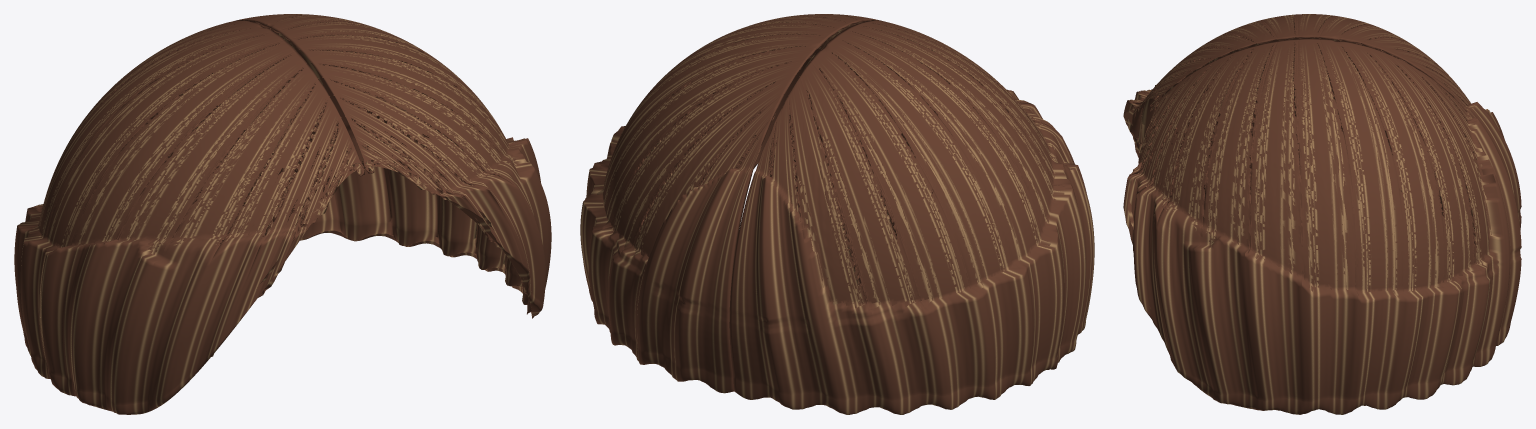
Rendered from Highlights-30907b967027252-hair.glb.
The picture shows the model from 3 angles, left to right: view 1: azimuth 30°, elevation 25°; view 2: azimuth 150°, elevation 25°; view 3: azimuth 270°, elevation 25°; orthographic projection. The views are drawn at different scales.
Parts seen in each view (by area): view 1: 226 hair / Hair252 / flowing sculpt middle.001; view 2: 226 hair / Hair252 / flowing sculpt middle.001; view 3: 226 hair / Hair252 / flowing sculpt middle.001.
Part boxes in pixels (box(x1,y1,x2,y2)): 226 hair / Hair252 / flowing sculpt middle.001: box(14, 14, 551, 414); 226 hair / Hair252 / flowing sculpt middle.001: box(580, 14, 1094, 414); 226 hair / Hair252 / flowing sculpt middle.001: box(1123, 14, 1521, 414).
Size of the model in its own units: 1.06 by 0.6426 by 0.832.
1 material, 1 textured.
